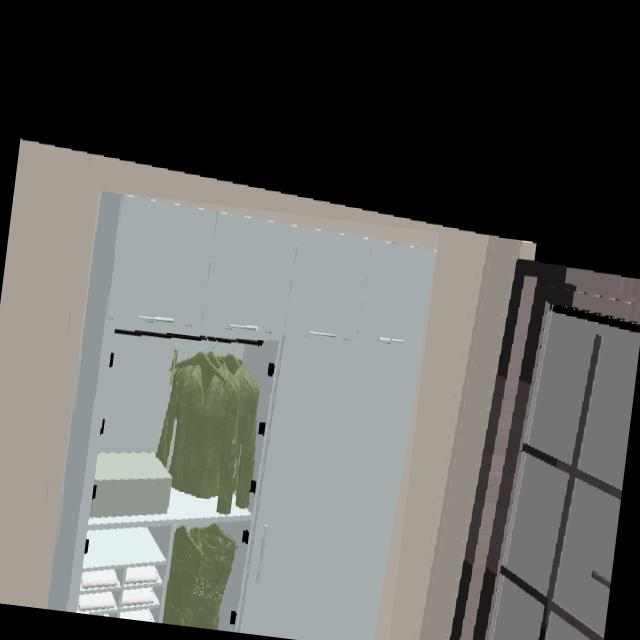wardrobe: (47, 191, 436, 640)
